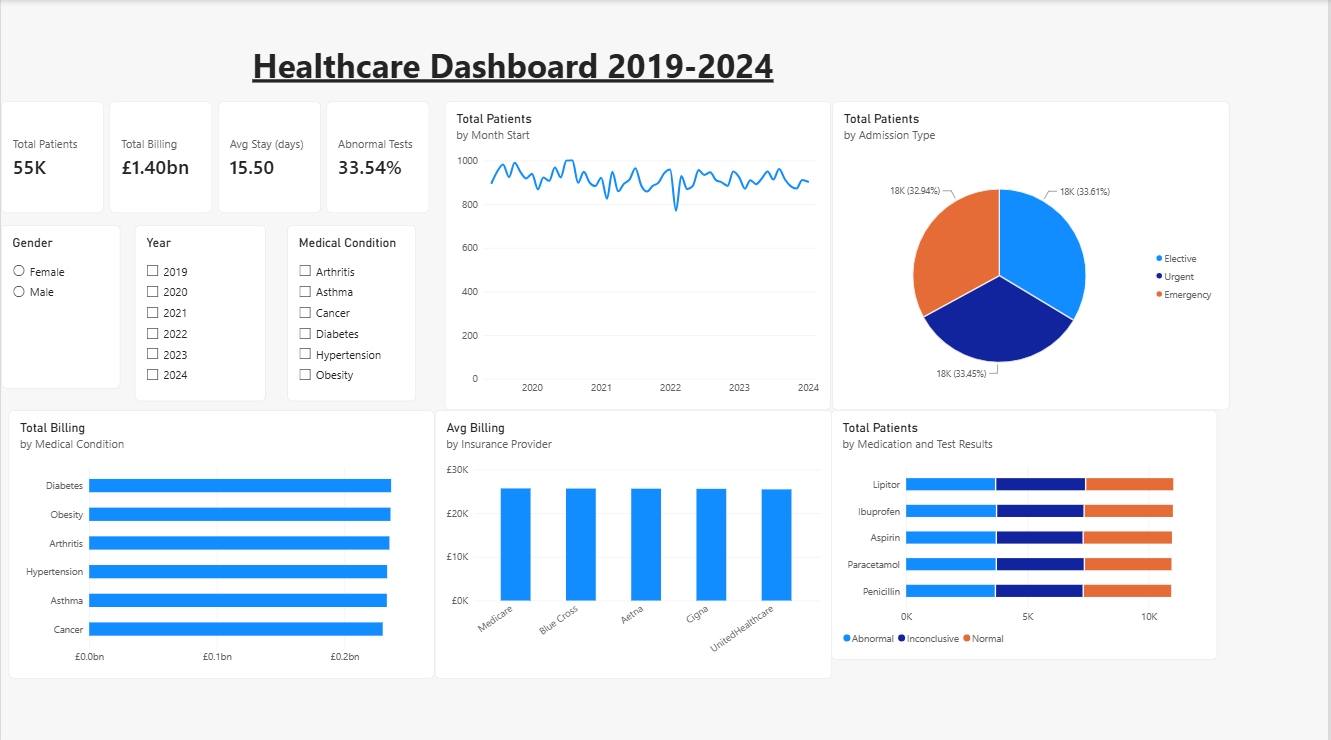

This screenshot's page, from the dashboard's own definition file:
{"tool":"powerbi","page":{"name":"Page 1","canvas":[1920,1080],"ordinal":0},"visuals":[{"type":"cardVisual","fields":{"Data":["healthcare_dataset_clean.Total Patients","healthcare_dataset_clean.Total Billing","healthcare_dataset_clean.Avg Length of Stay","healthcare_dataset_clean.Abnormal Test %"]},"box":[19.9,146.6,622.5,162.9],"z":0},{"type":"lineChart","fields":{"Category":["Calendar.Month Start"],"Y":["healthcare_dataset_clean.Total Patients"]},"box":[642.4,146.6,559.2,447],"z":1000},{"type":"clusteredBarChart","fields":{"Category":["healthcare_dataset_clean.Medical Condition"],"Y":["healthcare_dataset_clean.Total Billing"]},"box":[10.9,593.6,617.1,389.1],"z":2000},{"type":"pieChart","fields":{"Category":["healthcare_dataset_clean.Admission Type"],"Y":["healthcare_dataset_clean.Total Patients"]},"box":[1203.4,146.6,575.5,447],"z":3000},{"type":"listSlicer","fields":{"Values":["healthcare_dataset_clean.Gender"]},"box":[0,325.7,161.1,191.8],"z":4000},{"type":"listSlicer","fields":{"Values":["Calendar.Year"]},"box":[175.5,309.5,139.3,255.2],"z":4001},{"type":"listSlicer","fields":{"Values":["healthcare_dataset_clean.Medical Condition"]},"box":[347.5,309.5,186.4,255.2],"z":4002},{"type":"textbox","box":[363.7,23.5,1214.3,123.1],"z":4003},{"type":"barChart","fields":{"Category":["healthcare_dataset_clean.Medication"],"Series":["healthcare_dataset_clean.Test Results"],"Y":["healthcare_dataset_clean.Total Patients"]},"box":[1201.6,593.6,559.2,361.9],"z":4004},{"type":"clusteredColumnChart","fields":{"Category":["healthcare_dataset_clean.Insurance Provider"],"Y":["healthcare_dataset_clean.Avg Billing"]},"box":[628,593.6,575.5,389.1],"z":4005}]}

Visuals, with their boxes in screenshot pixels (x1, y1, x2, y2), scaled from the page's 1920x1080 canvas onto the 1331x740 screenshot:
cardVisual - healthcare_dataset_clean.Total Patients x healthcare_dataset_clean.Total Billing: box=[14, 100, 445, 212]
lineChart - Calendar.Month Start x healthcare_dataset_clean.Total Patients: box=[445, 100, 833, 407]
clusteredBarChart - healthcare_dataset_clean.Medical Condition x healthcare_dataset_clean.Total Billing: box=[8, 407, 435, 673]
pieChart - healthcare_dataset_clean.Admission Type x healthcare_dataset_clean.Total Patients: box=[834, 100, 1233, 407]
listSlicer - healthcare_dataset_clean.Gender: box=[0, 223, 112, 355]
listSlicer - Calendar.Year: box=[122, 212, 218, 387]
listSlicer - healthcare_dataset_clean.Medical Condition: box=[241, 212, 370, 387]
textbox: box=[252, 16, 1094, 100]
barChart - healthcare_dataset_clean.Medication x healthcare_dataset_clean.Test Results: box=[833, 407, 1221, 655]
clusteredColumnChart - healthcare_dataset_clean.Insurance Provider x healthcare_dataset_clean.Avg Billing: box=[435, 407, 834, 673]
